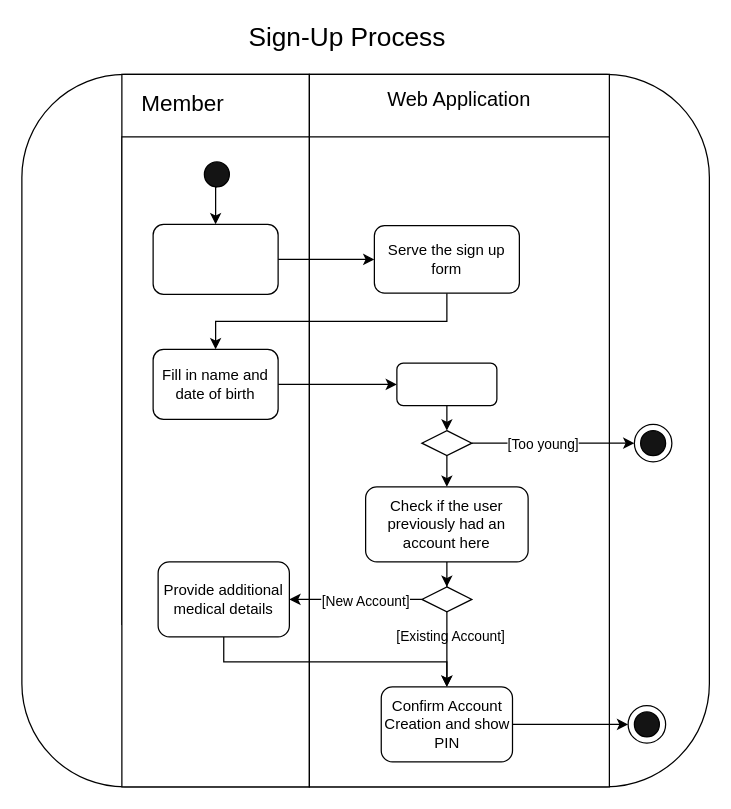
Image size: 731x809. Some labels were removed from this diagram. Here are the shapes that lost their labels. From the top down, the centre of each, then its label:
point (215, 258): Navigate to the sign up page
point (446, 384): Verify age
